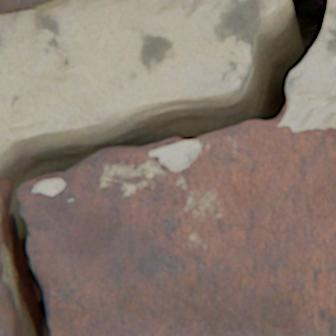broken_brick: (20, 117, 335, 335), (0, 224, 13, 335), (0, 0, 67, 15)
crack: (0, 0, 335, 335)
